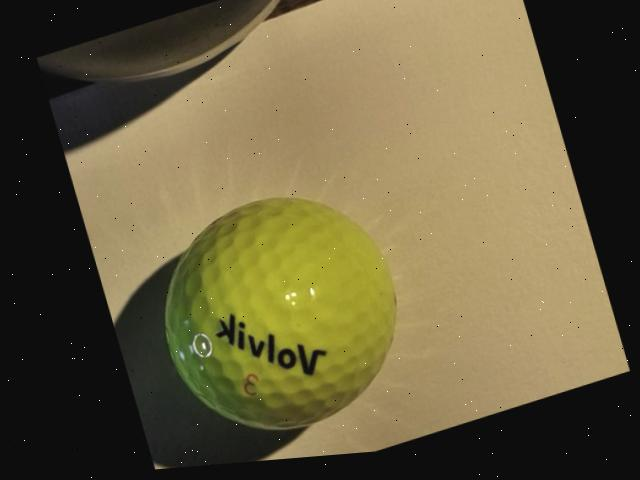Ball: (133, 171, 423, 467)
Volvik: (207, 294, 330, 407)
